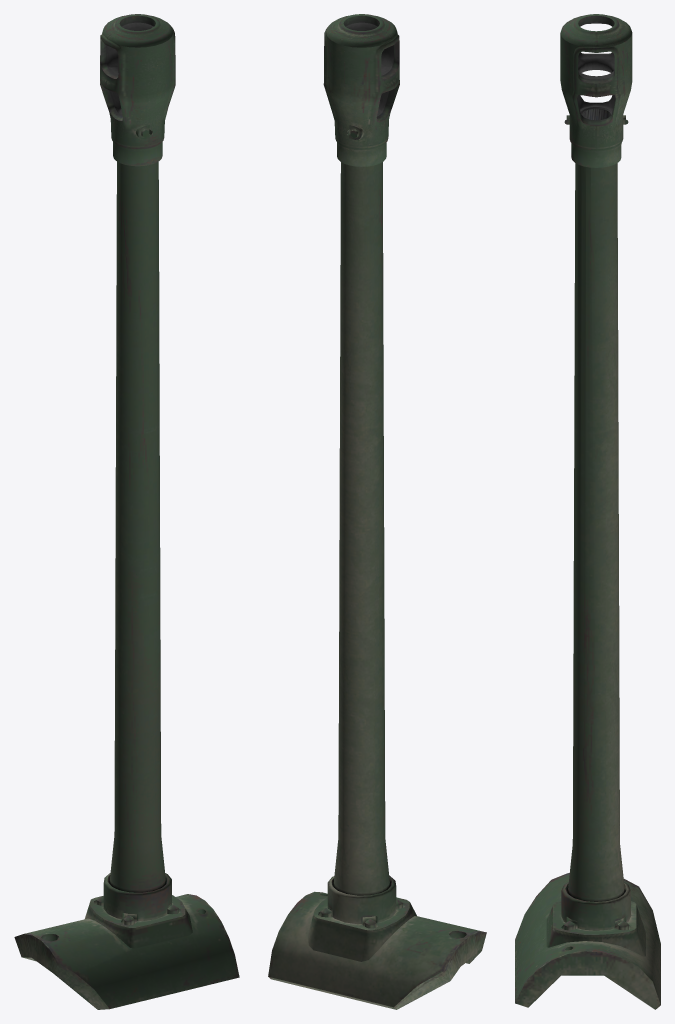
The model's file is Gun_05.glb.
3 renders of one model, left to right at view 1: azimuth 30°, elevation 25°; view 2: azimuth 150°, elevation 25°; view 3: azimuth 270°, elevation 25°, orthographic.
Visible parts, largest first — view 1: set_0_group_0; view 2: set_0_group_0; view 3: set_0_group_0.
Part boxes in pixels (box(x1,y1,x2,y2)): set_0_group_0: box(14, 14, 239, 1009); set_0_group_0: box(268, 14, 486, 1009); set_0_group_0: box(515, 14, 660, 1009).
Size of the model in its own units: 0.8031 by 4.43 by 0.6119.
Materials: 1 (1 with a texture image).
